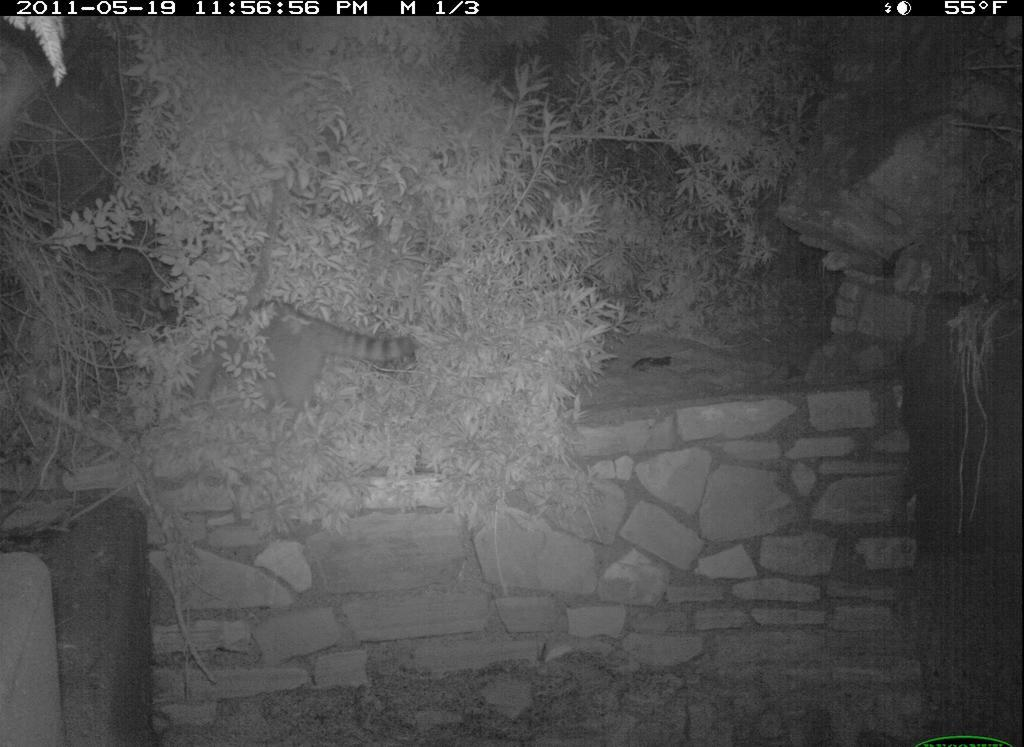raccoon: (146, 280, 455, 437)
